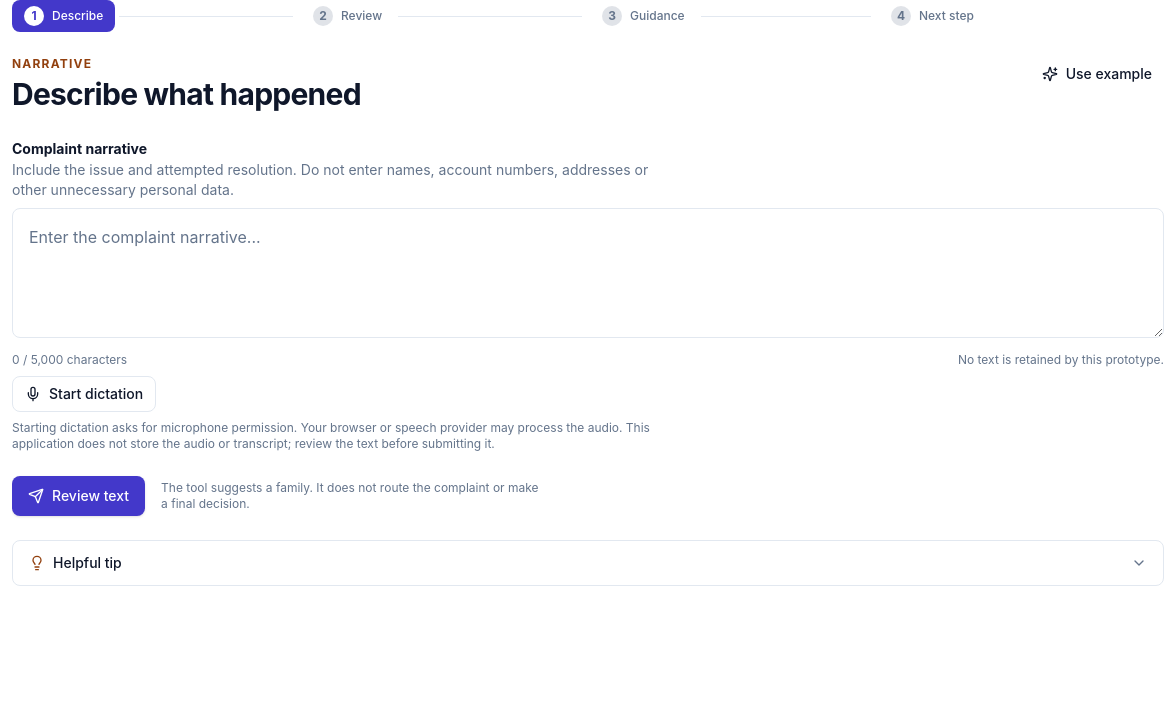
Test: ClassificationPage › recovers safely from a recognition error
The width and height of the screenshot is (1176, 720).
Click the button "Start dictation": (84, 394) [12,376,156,412]
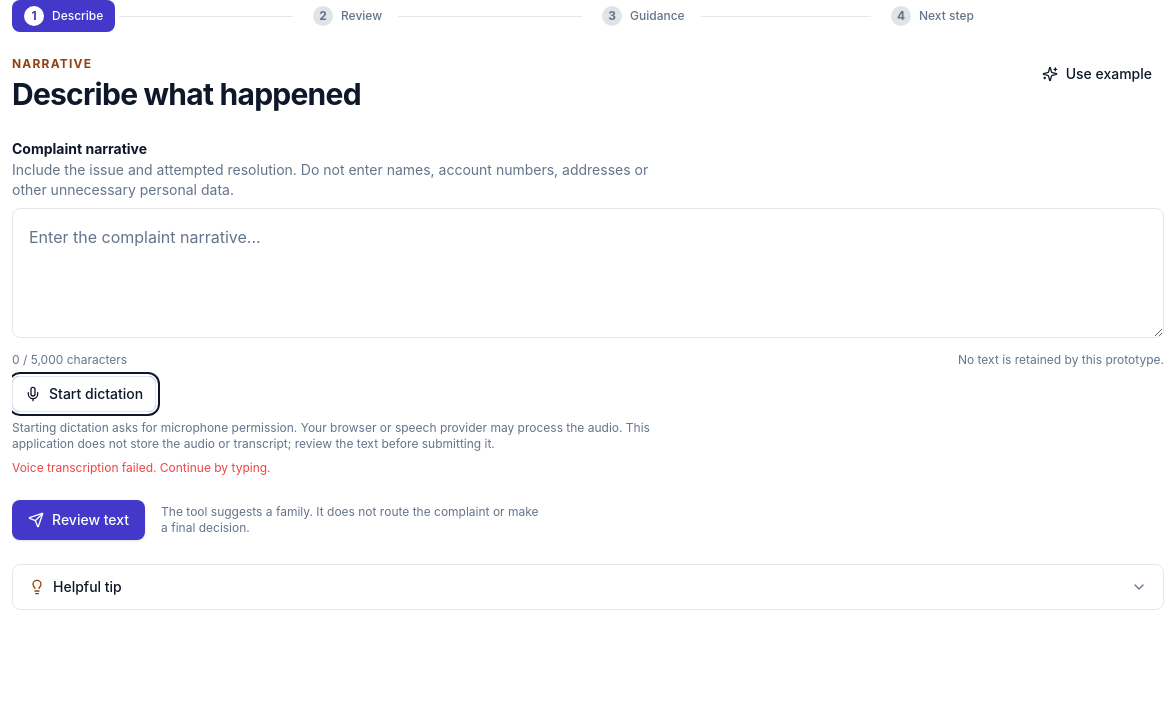
Check: the text box labelled "Complaint narrative" is enabled, box [12,208,1164,338]
Check: the message reads "Voice transcription failed. Continue by typing.", box [12,460,271,475]
